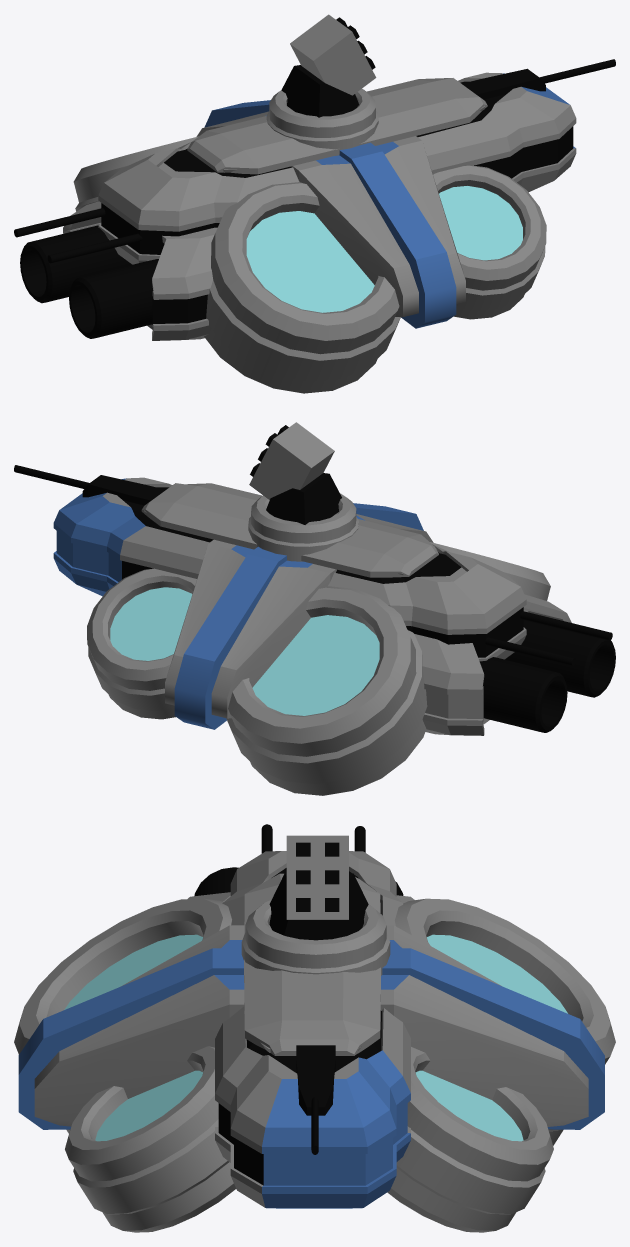
File: HumanShipC.fbx
The picture shows the model from 3 angles, top to bottom: view 1: azimuth 30°, elevation 25°; view 2: azimuth 150°, elevation 25°; view 3: azimuth 270°, elevation 25°; orthographic projection. The views are drawn at different scales.
Parts seen in each view (by area): view 1: HumanShipC; view 2: HumanShipC; view 3: HumanShipC.
Boxes of the visible parts, x1,y1,x2,y2 form: HumanShipC: (14,14,615,393); HumanShipC: (14,422,615,795); HumanShipC: (14,824,615,1232).
Size of the model in its own units: 7.25 by 3.31 by 4.92.
